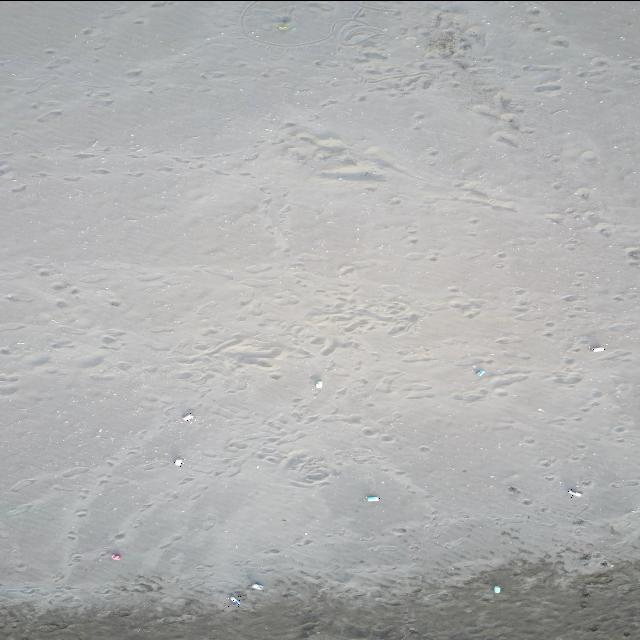Garbage: (567, 487, 582, 496), (227, 595, 239, 606), (181, 411, 193, 422), (473, 367, 486, 375), (173, 457, 183, 467), (249, 583, 263, 590), (366, 495, 380, 500), (593, 346, 604, 352), (112, 552, 120, 560), (492, 584, 500, 592), (315, 380, 322, 387)
